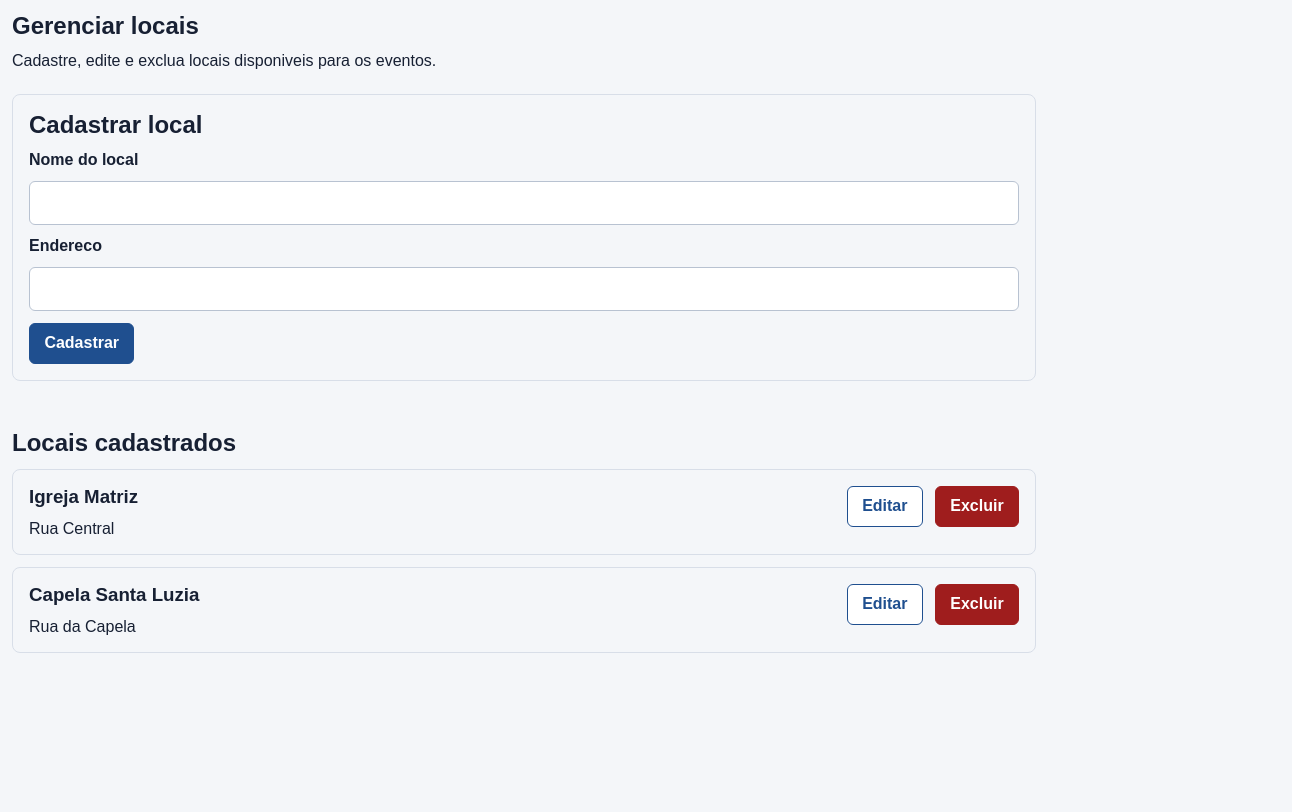
Test: LocationManagementComponent › should not submit invalid forms and should mark fields as touched
The width and height of the screenshot is (1292, 812).
Click the button "Cadastrar": coordinates (82, 343) [29,323,134,364]
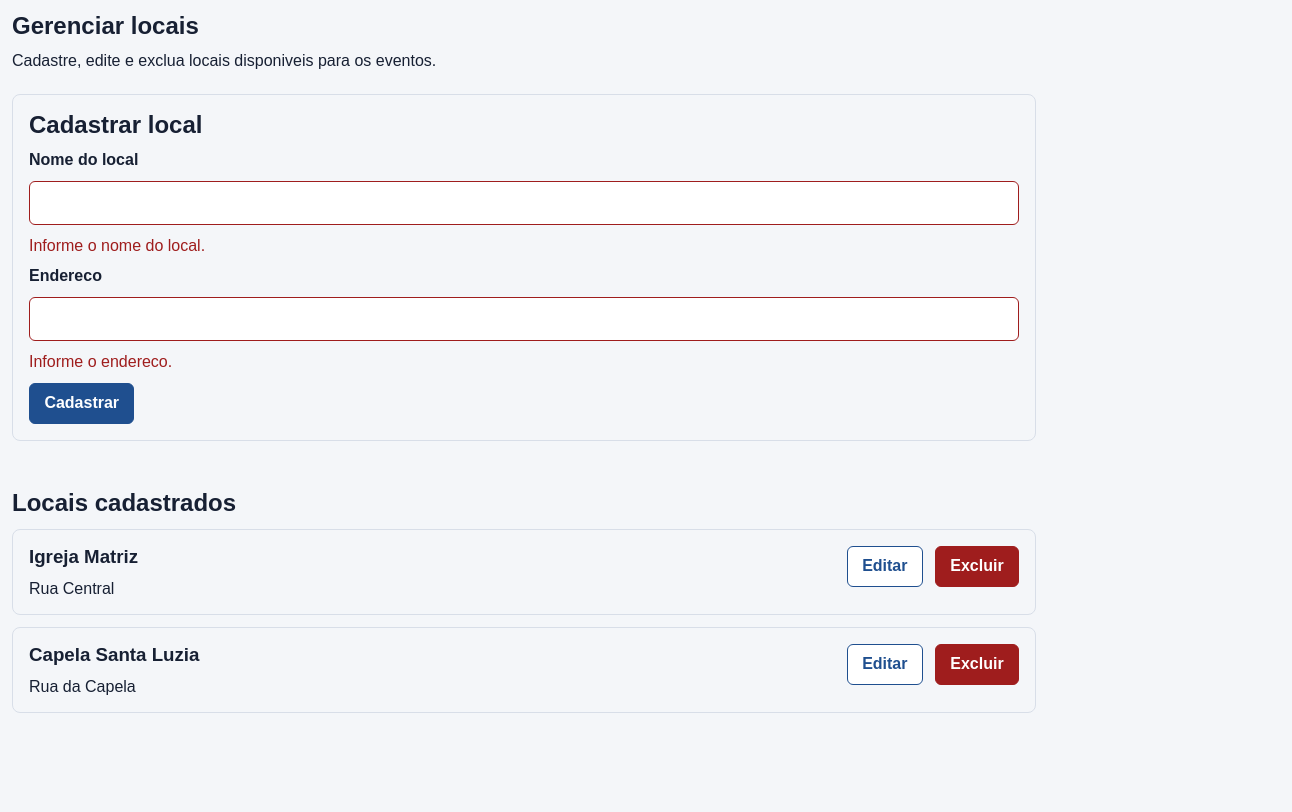
Now the text "Informe o nome do local." is shown, box [29,237,205,254]
Now the text "Informe o endereco." is shown, box [29,353,172,370]
